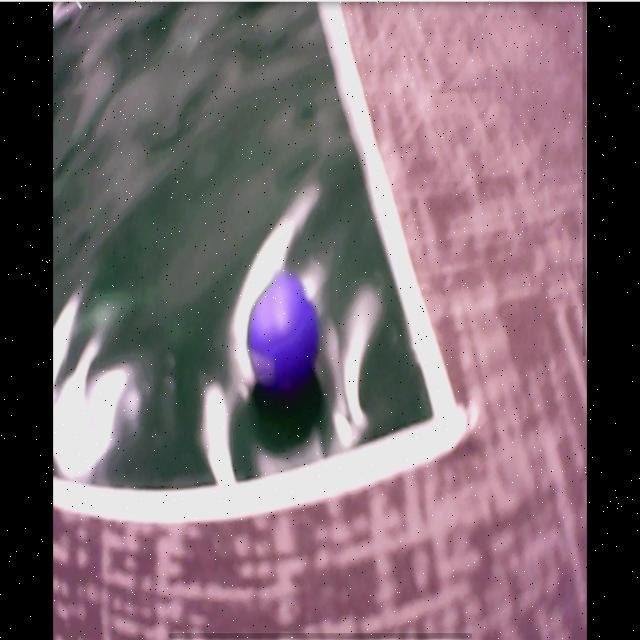ball: (246, 274, 318, 390)
